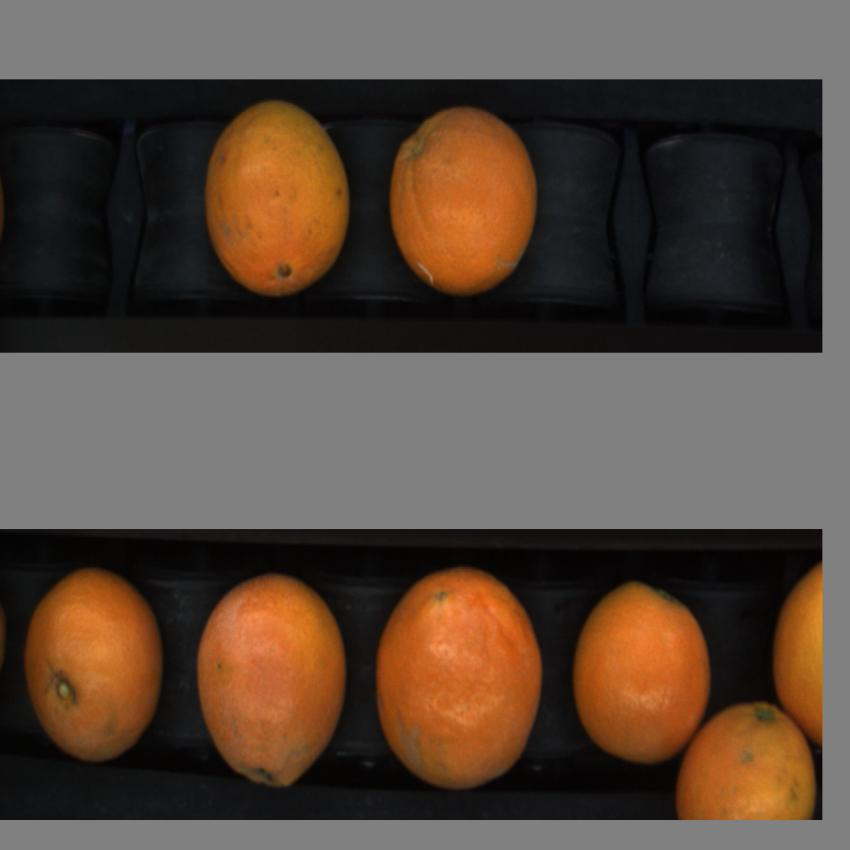Buen estado: (386, 106, 546, 302), (200, 100, 361, 290), (24, 566, 166, 773), (574, 580, 712, 768), (676, 697, 817, 825), (772, 563, 822, 746)
Mal estado: (371, 569, 548, 791), (197, 577, 350, 791)
